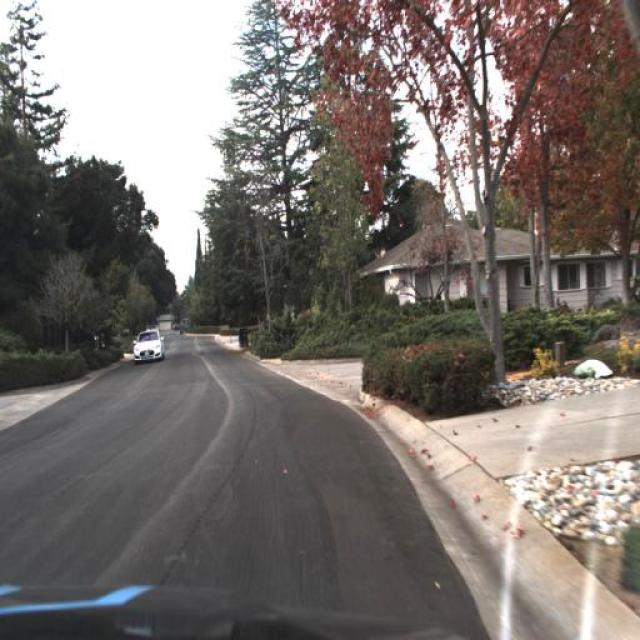car: (132, 328, 164, 363)
